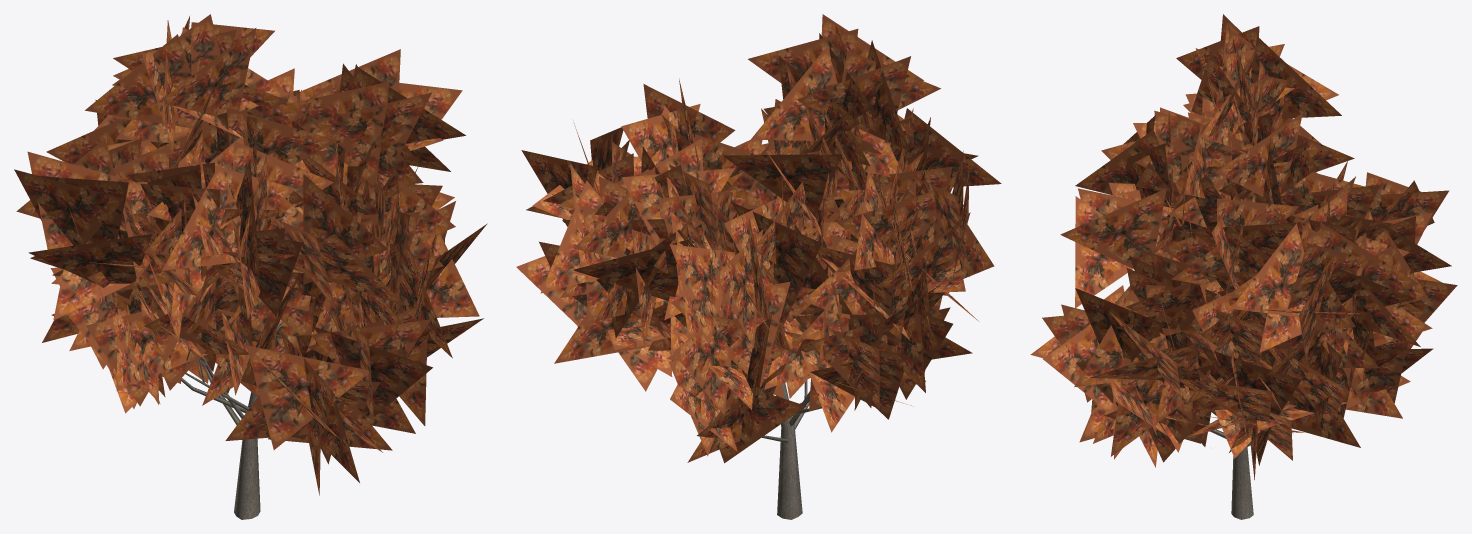
The model's file is Acer_Saccharum_Autumn_Young.glb.
The picture shows the model from 3 angles, left to right: view 1: azimuth 30°, elevation 25°; view 2: azimuth 150°, elevation 25°; view 3: azimuth 270°, elevation 25°; orthographic projection. The views are drawn at different scales.
Visible parts, largest first — view 1: Acer_Saccharum_Autumn_Young__LOD3; view 2: Acer_Saccharum_Autumn_Young__LOD3; view 3: Acer_Saccharum_Autumn_Young__LOD3.
Part boxes in pixels (x1,y1,x2,y2): Acer_Saccharum_Autumn_Young__LOD3: (14,14,487,519); Acer_Saccharum_Autumn_Young__LOD3: (516,14,1001,519); Acer_Saccharum_Autumn_Young__LOD3: (1030,14,1457,519).
Size of the model in its own units: 7.67 by 8.16 by 6.77.
Materials: 2 (2 with a texture image).
